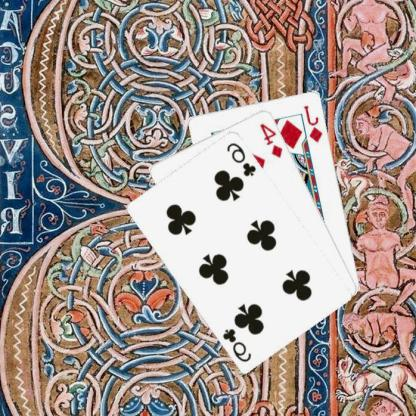4D: (259, 120, 286, 158)
6C: (226, 140, 260, 178), (221, 325, 254, 363)
JD: (303, 102, 326, 144)
